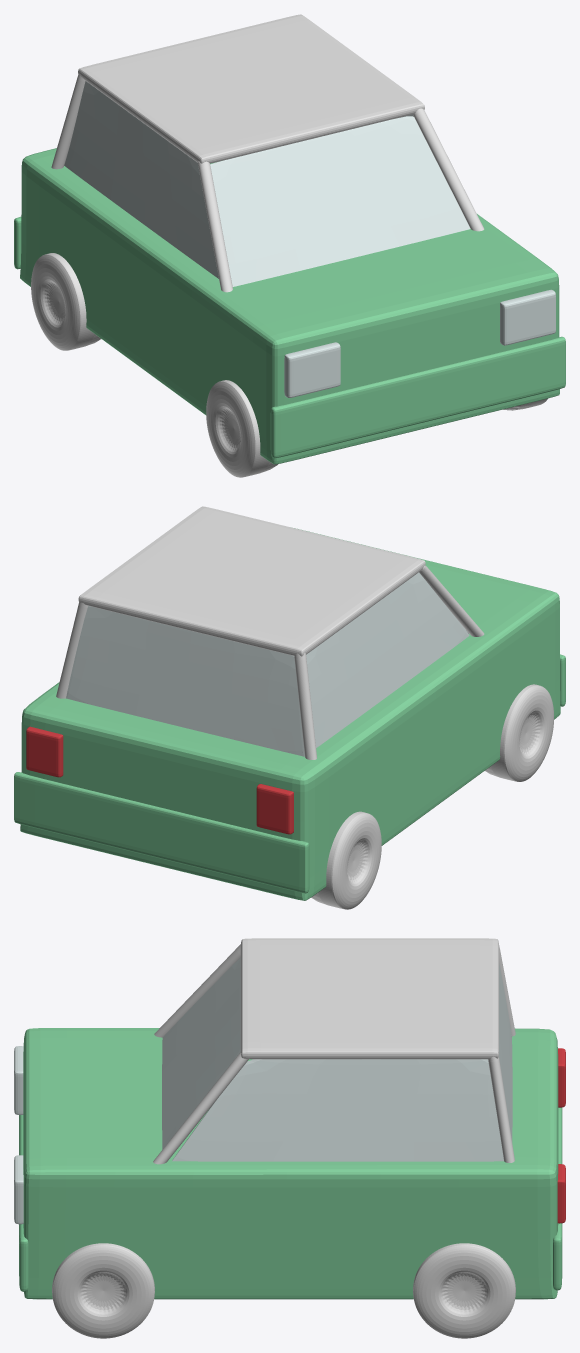
Rendered from car-kei08F1.fbx.
3 renders of one model, top to bottom at view 1: azimuth 30°, elevation 25°; view 2: azimuth 150°, elevation 25°; view 3: azimuth 270°, elevation 25°, orthographic. The views are drawn at different scales.
Visible parts, largest first — view 1: body-car-F1; view 2: body-car-F1; view 3: body-car-F1.
Part boxes in pixels (x1,y1,x2,y2): body-car-F1: [14, 14, 565, 477]; body-car-F1: [14, 506, 565, 909]; body-car-F1: [14, 938, 565, 1338].
Size of the model in its own units: 42.67 by 22.96 by 28.48.
